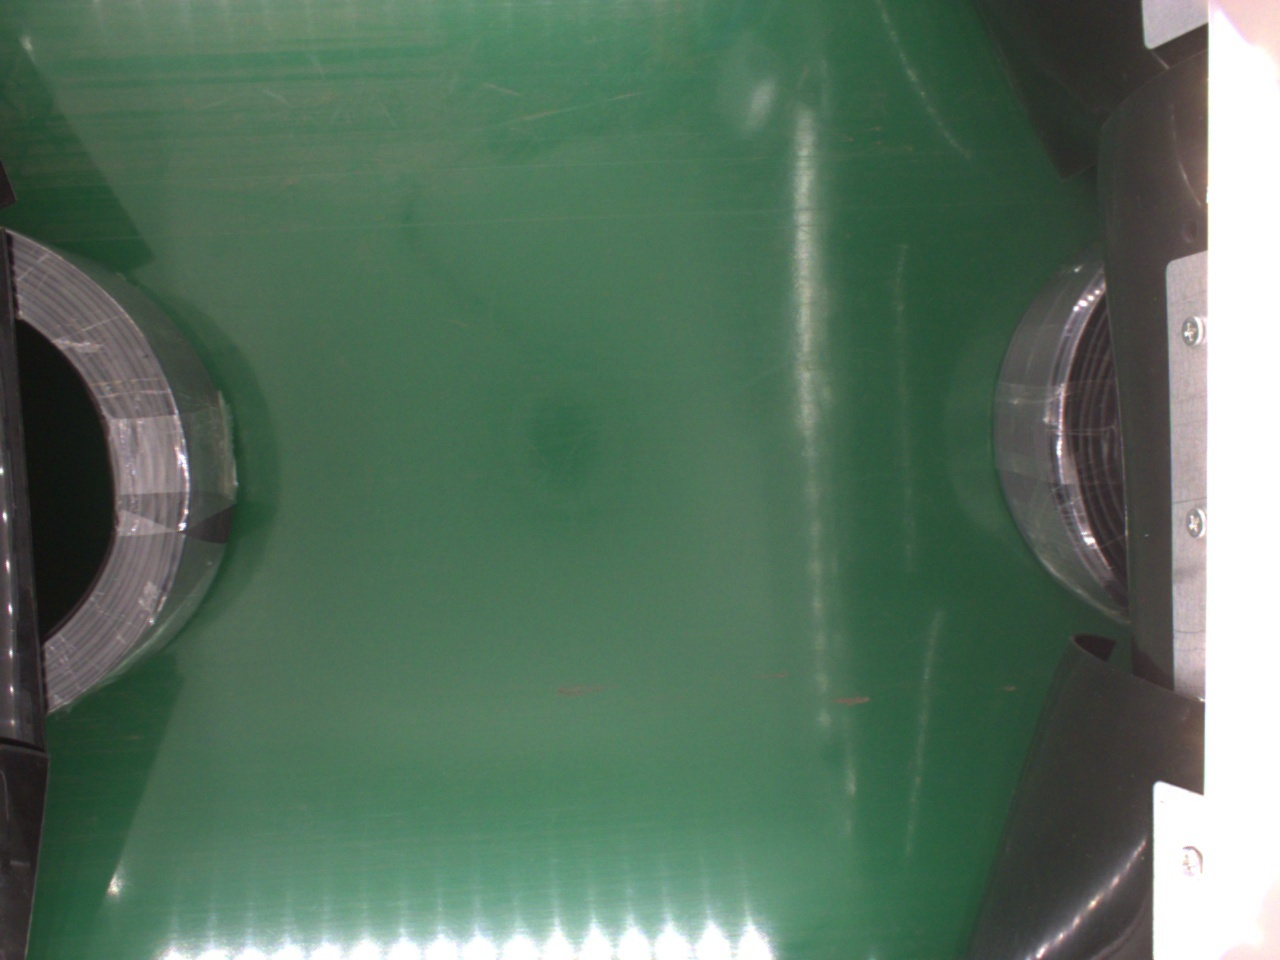black: (6, 226, 239, 704), (993, 253, 1124, 627)
